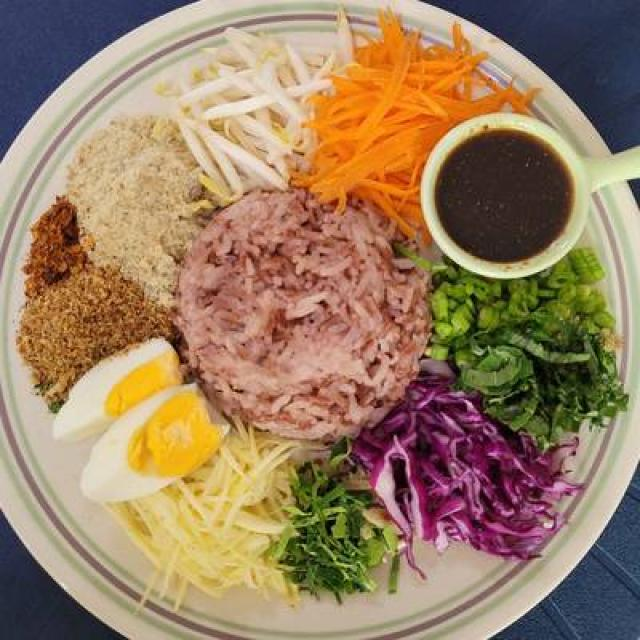carb: (179, 194, 467, 438)
rice salad: (40, 42, 612, 622)
vegetable: (205, 34, 457, 200), (435, 270, 586, 535), (173, 446, 429, 600)
